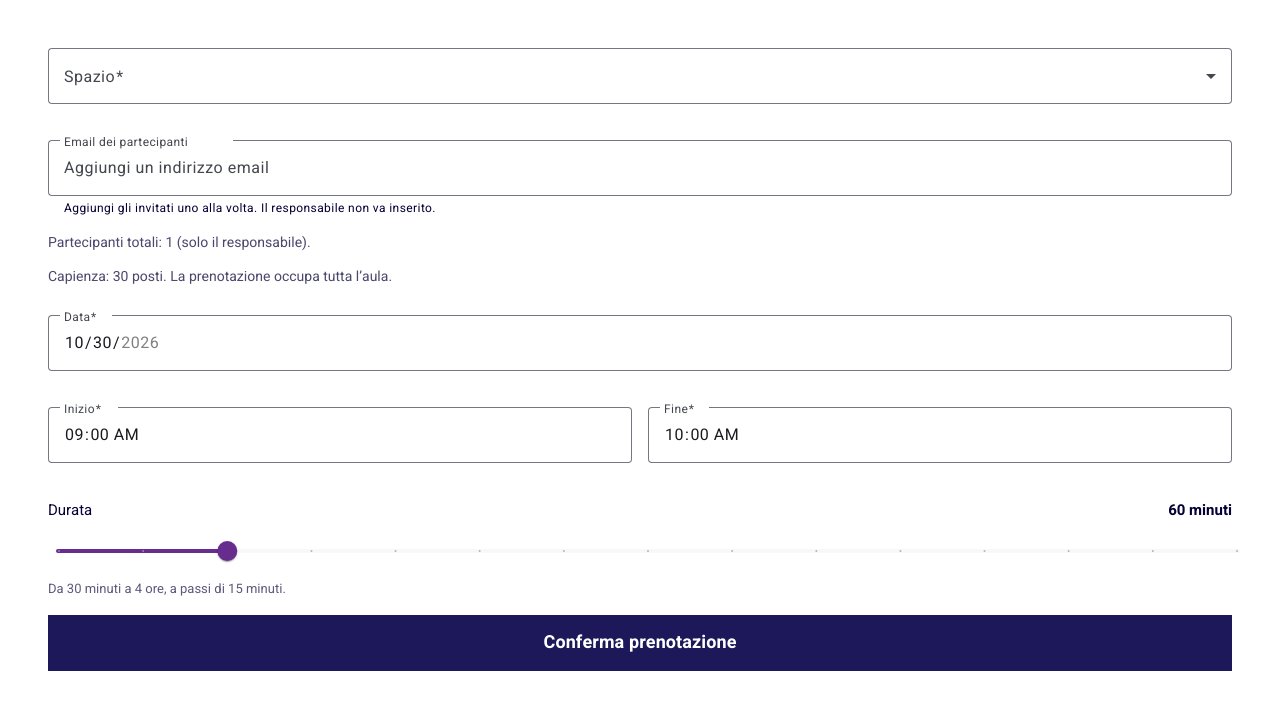
Test case: BookingFormComponent › follows the slider while it is dragged, not only on release
Set the slider named "Durata della prenotazione in minuti" to "90": coordinates (648, 551) [56, 541, 1240, 561]
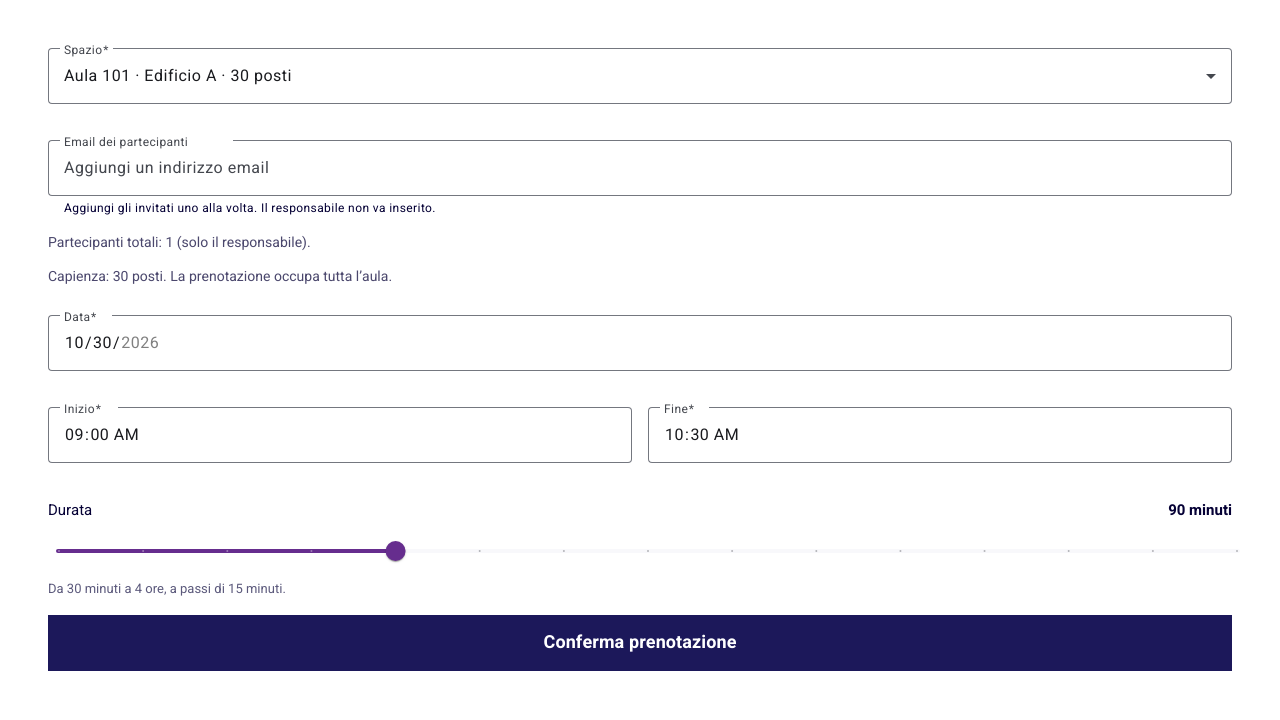
expect the text "90 minuti" is shown: met, box [1168, 499, 1232, 523]
